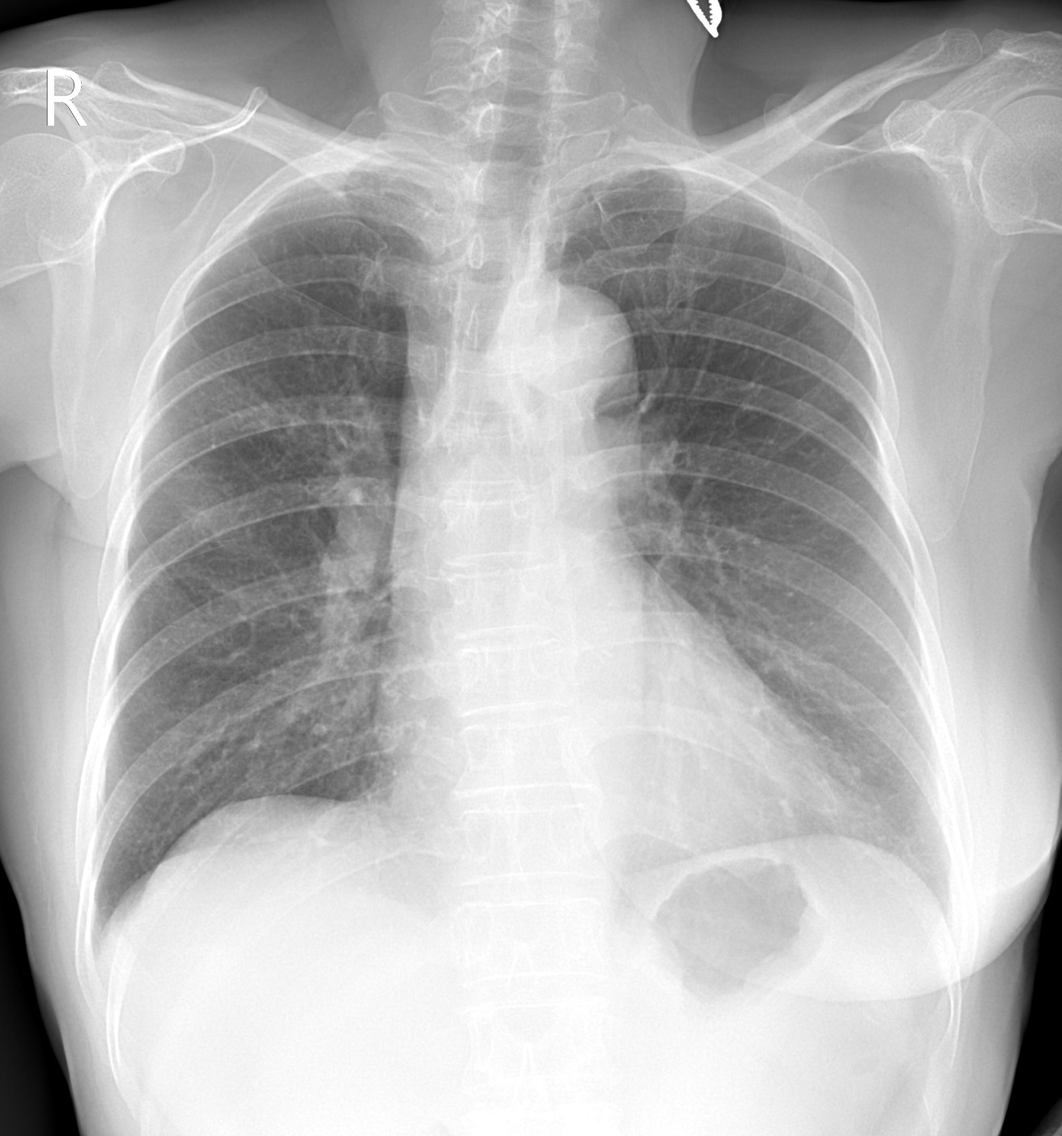Aortic enlargement: (504, 286, 641, 444)
Cardiomegaly: (374, 700, 878, 847)
